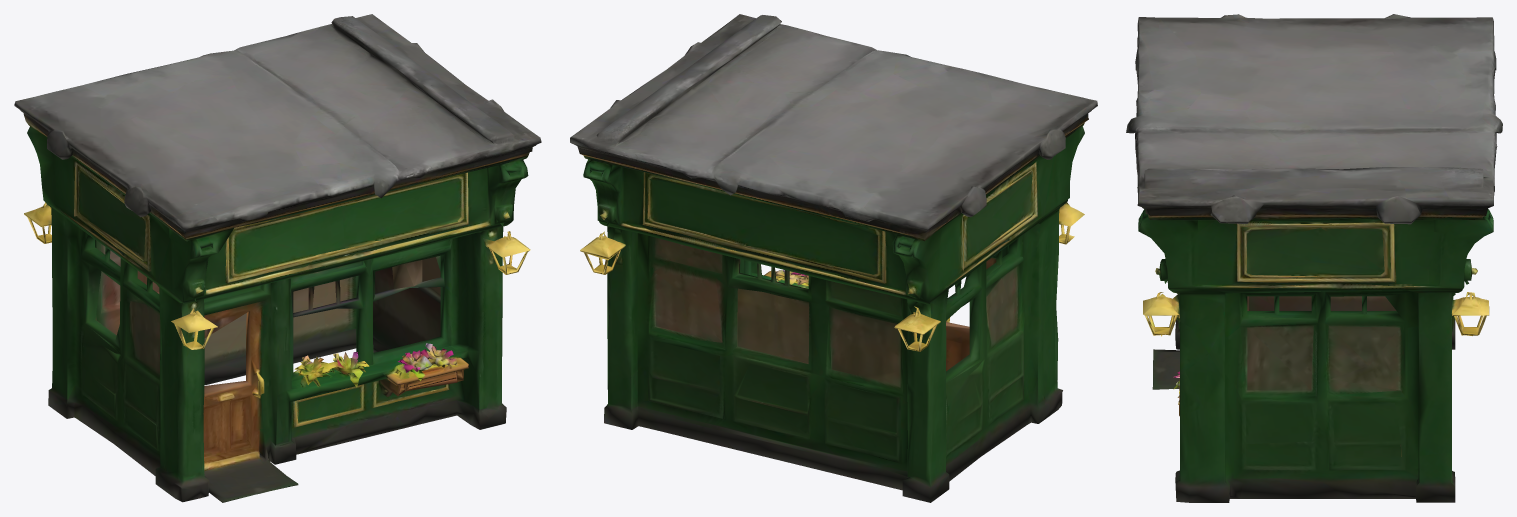
Rendered from pub_celtic.glb.
3 renders of one model, left to right at view 1: azimuth 30°, elevation 25°; view 2: azimuth 150°, elevation 25°; view 3: azimuth 270°, elevation 25°, orthographic. The views are drawn at different scales.
Parts seen in each view (by area): view 1: tripo_node_badef255-0184-488f-972c-2fdd97c74737; view 2: tripo_node_badef255-0184-488f-972c-2fdd97c74737; view 3: tripo_node_badef255-0184-488f-972c-2fdd97c74737.
Boxes of the visible parts, box(x1,y1,x2,y2) form: tripo_node_badef255-0184-488f-972c-2fdd97c74737: box(14, 14, 541, 502); tripo_node_badef255-0184-488f-972c-2fdd97c74737: box(570, 14, 1097, 502); tripo_node_badef255-0184-488f-972c-2fdd97c74737: box(1126, 14, 1502, 502).
Size of the model in its own units: 7 by 5.49 by 5.84.
Materials: 1 (1 with a texture image).
